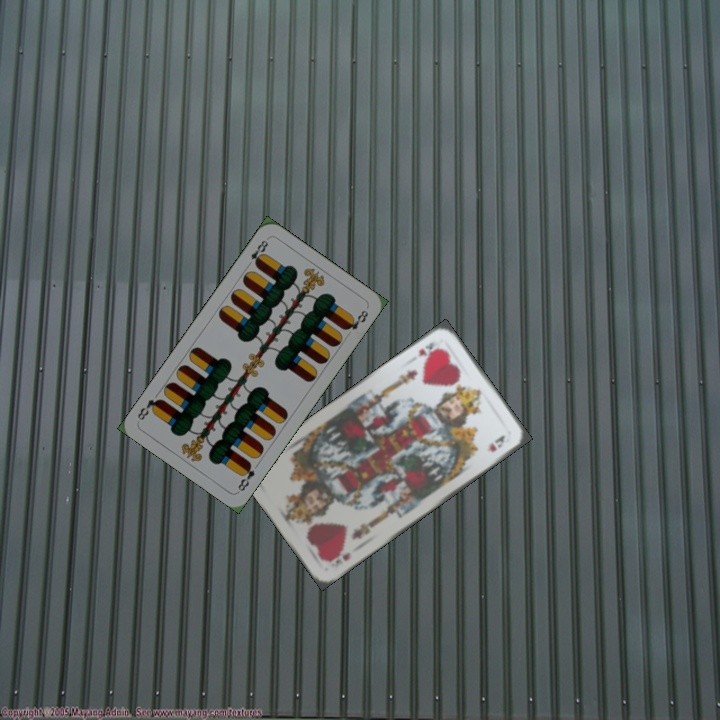E8: (243, 234, 271, 270), (233, 458, 258, 494)
HK: (413, 337, 441, 362), (324, 548, 353, 566)
